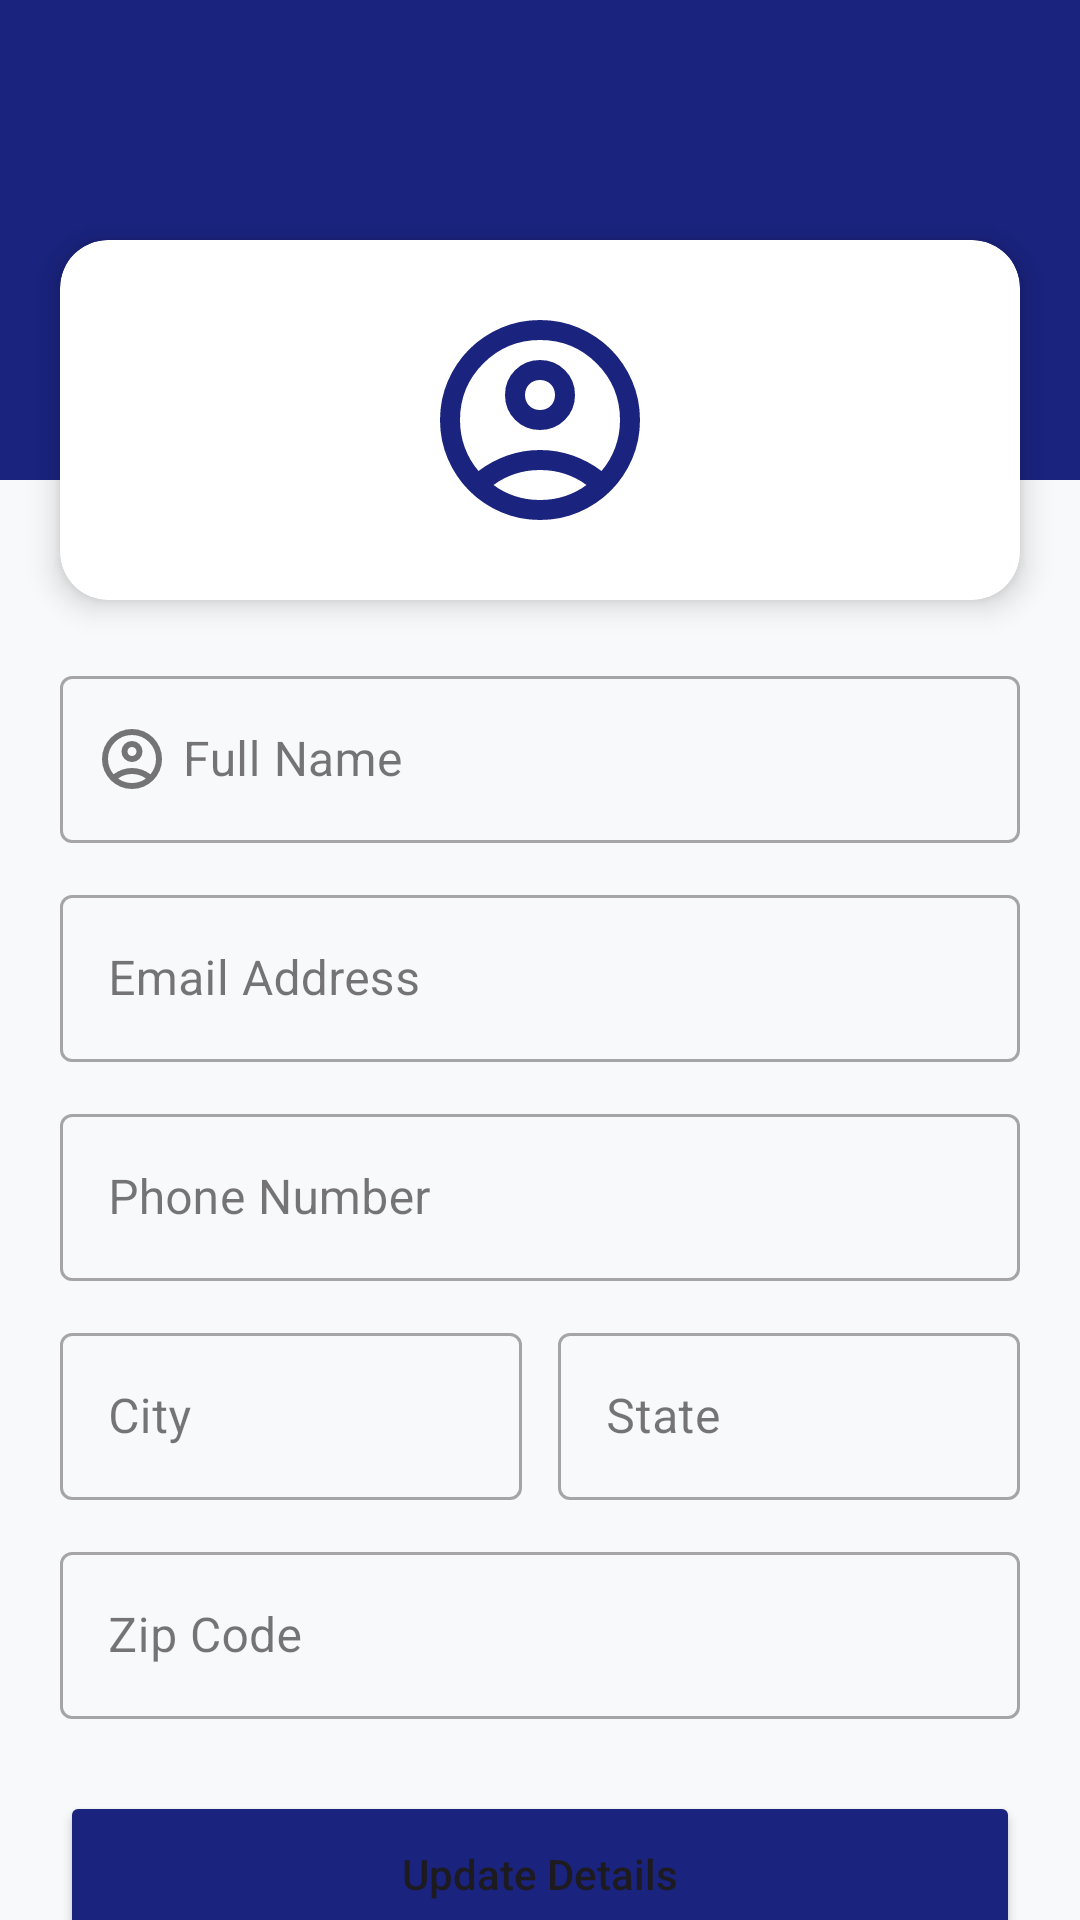

Screen size 1080w x 1920h. Icon name, then its center in pixels as (x,y):
person: (540,420)
